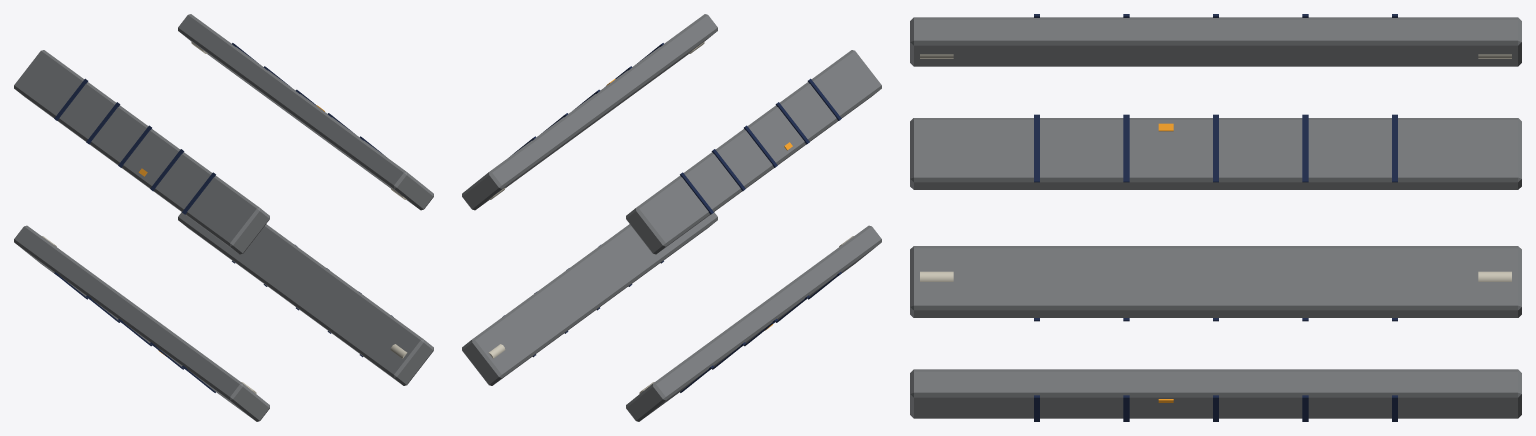
The model's file is srw_capacitor_banks.obj.
3 renders of one model, left to right at view 1: azimuth 30°, elevation 25°; view 2: azimuth 150°, elevation 25°; view 3: azimuth 270°, elevation 25°, orthographic. The views are drawn at different scales.
Visible parts, largest first — view 1: srw_capacitor_banks; view 2: srw_capacitor_banks; view 3: srw_capacitor_banks.
Part boxes in pixels (bbox=[...]): srw_capacitor_banks: bbox=[14, 14, 433, 421]; srw_capacitor_banks: bbox=[462, 14, 881, 421]; srw_capacitor_banks: bbox=[910, 14, 1521, 421].
Bounding box in the file's own units: 2.28 × 2.28 × 4.11.
